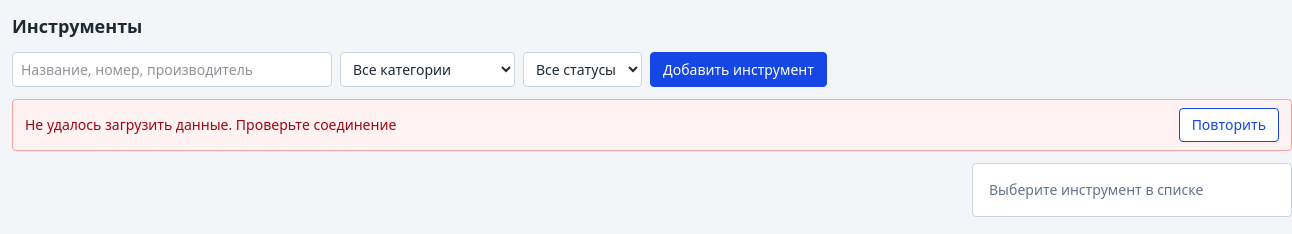
Scenario: ToolsPage › keeps the page usable on a network error and recovers after retry
This screenshot has width=1292, height=234.
Expected: the message shows "Проверьте соединение", 25,115 -> 396,134
Click the button "Повторить" at (1229, 125), box 1179,108 -> 1279,142
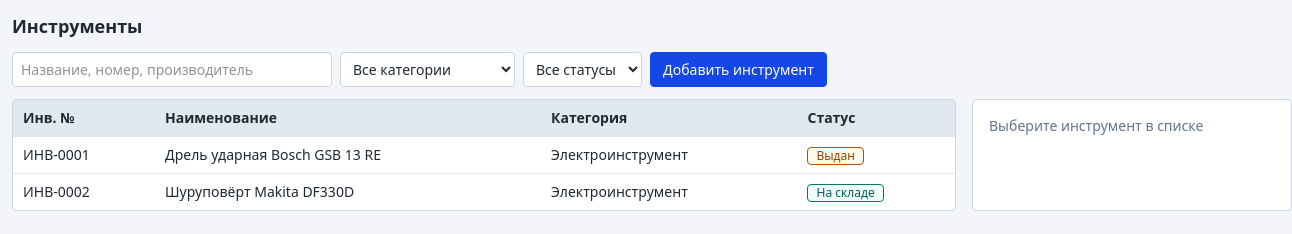
Expected: the text "Шуруповёрт Makita DF330D" is shown, 155,174 -> 541,210
Expected: the message "Не удалось загрузить данные. Проверьте соединение Повторить" is gone
